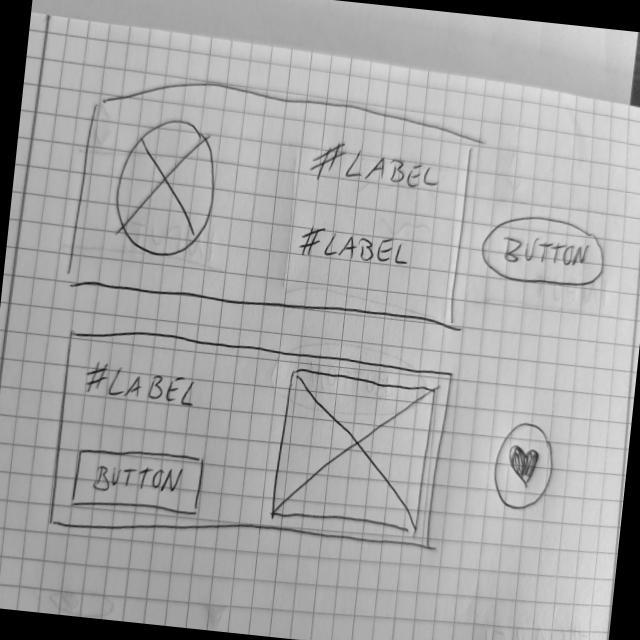button: (475, 208, 612, 293), (68, 439, 210, 521)
container: (60, 60, 480, 334), (43, 321, 458, 571)
icon-button: (486, 416, 561, 514)
image: (266, 365, 439, 536), (108, 109, 225, 262)
label: (305, 134, 443, 195), (80, 357, 204, 412), (289, 218, 416, 271)
